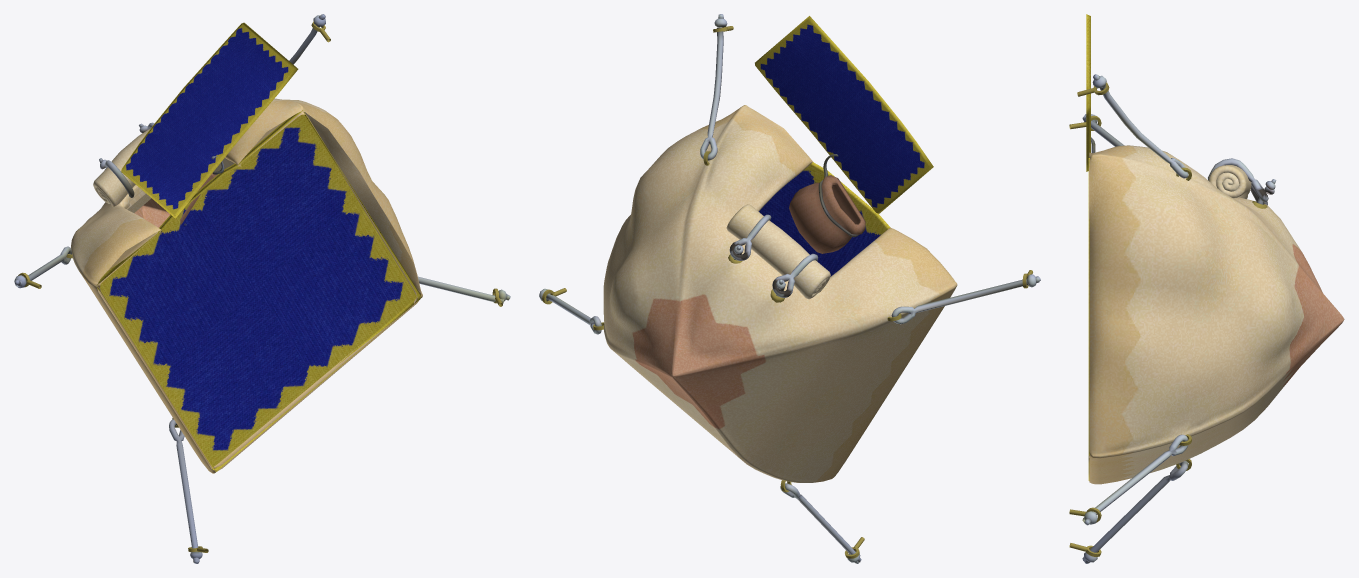
Rendered from Tent.FBX.
3 views of the same model, side by side, from view 1: azimuth 30°, elevation 25°; view 2: azimuth 150°, elevation 25°; view 3: azimuth 270°, elevation 25° (orthographic). The views are drawn at different scales.
Visible parts, largest first — view 1: Season3IntermissionStageTent_polySurface38090__Tent00_AI, Season3IntermissionStageTent_nurbsToPoly1__Rope00_AI; view 2: Season3IntermissionStageTent_polySurface38090__Tent00_AI, Season3IntermissionStageTent_nurbsToPoly1__Rope00_AI, Season3IntermissionStageTent_pCylinder901__DemoIron00_AI; view 3: Season3IntermissionStageTent_polySurface38090__Tent00_AI, Season3IntermissionStageTent_nurbsToPoly1__Rope00_AI, Season3IntermissionStageTent_pCylinder901__DemoIron00_AI.
Part boxes in pixels (x1=…): Season3IntermissionStageTent_polySurface38090__Tent00_AI: x1=71, y1=22, x2=422, y2=473; Season3IntermissionStageTent_nurbsToPoly1__Rope00_AI: x1=14, y1=14, x2=510, y2=563; Season3IntermissionStageTent_polySurface38090__Tent00_AI: x1=603, y1=16, x2=957, y2=482; Season3IntermissionStageTent_nurbsToPoly1__Rope00_AI: x1=539, y1=14, x2=1040, y2=563; Season3IntermissionStageTent_pCylinder901__DemoIron00_AI: x1=542, y1=26, x2=1032, y2=558; Season3IntermissionStageTent_polySurface38090__Tent00_AI: x1=1086, y1=14, x2=1344, y2=484; Season3IntermissionStageTent_nurbsToPoly1__Rope00_AI: x1=1082, y1=74, x2=1276, y2=563; Season3IntermissionStageTent_pCylinder901__DemoIron00_AI: x1=1069, y1=82, x2=1267, y2=556.
Size of the model in its own units: 703 by 719 by 312.
